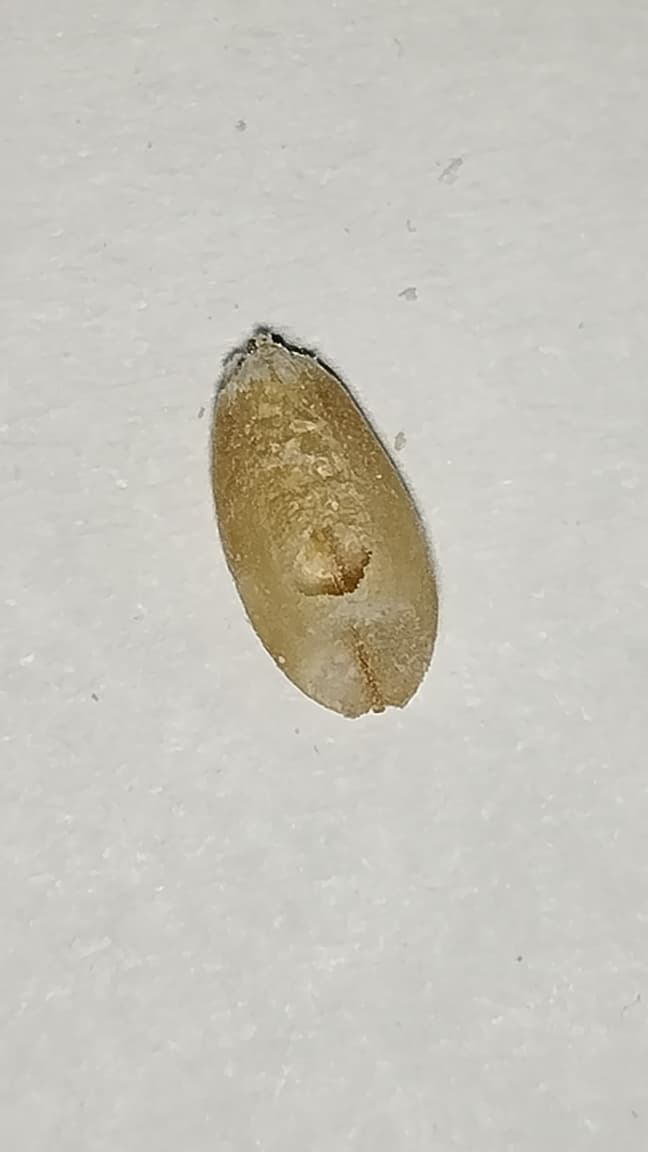damage: (213, 343, 438, 717)
insectdamage: (282, 491, 416, 598)
